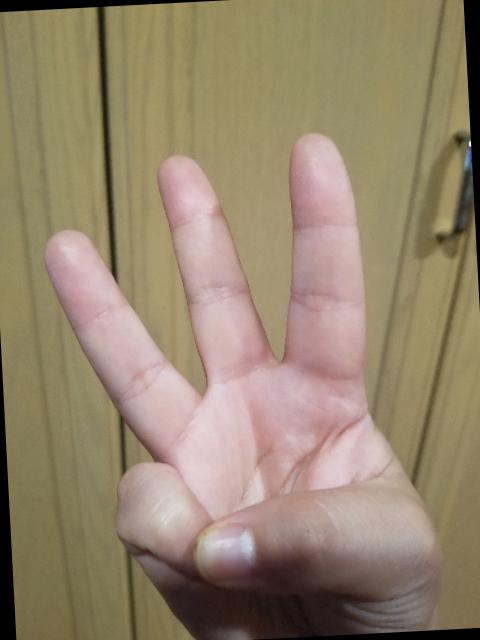W: (32, 122, 455, 640)
